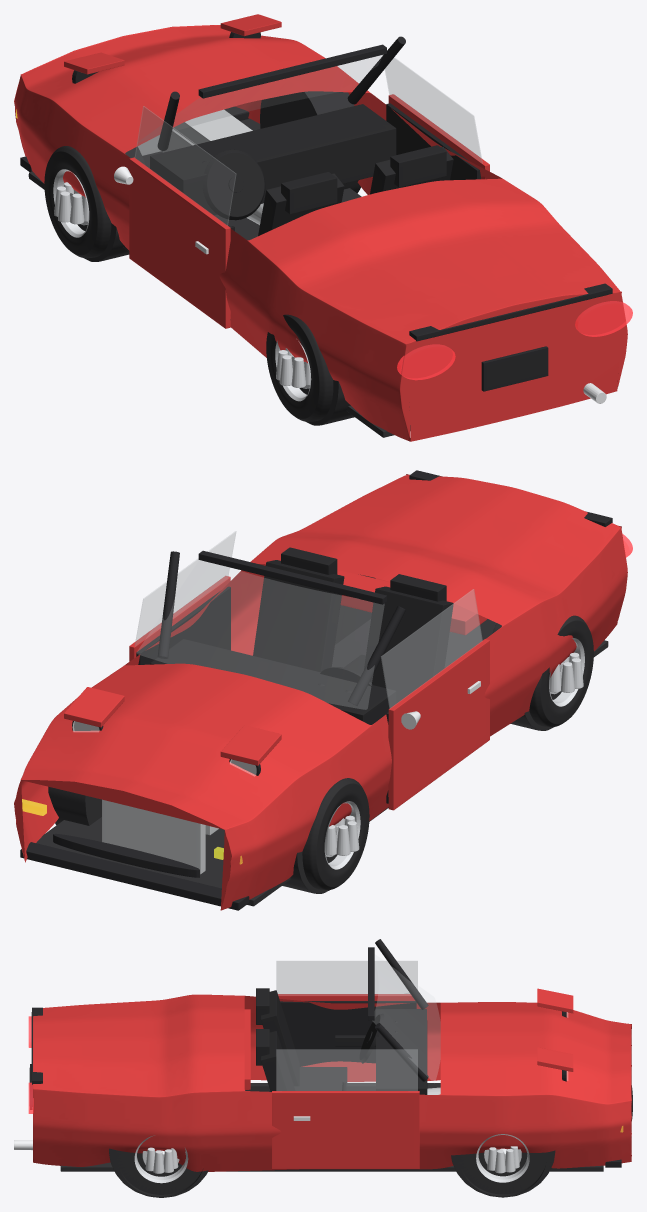
The model's file is vehicle.opt.glb.
3 views of the same model, one above another, from view 1: azimuth 30°, elevation 25°; view 2: azimuth 150°, elevation 25°; view 3: azimuth 270°, elevation 25° (orthographic). The views are drawn at different scales.
Visible parts, largest first — view 1: BODY_Miata_NA_Unibody, INTERIOR_Miata_NA_Cockpit, DOOR_FL_Miata_NA, LIGHTING_Miata_NA_OpticsAndPopups, DOOR_FL_Miata_NA_WindowGlass, CHASSIS_Miata_NA_Platform, WHEEL_FL_Daisy, GLASS_Miata_NA_Greenhouse, WHEEL_RL_Daisy, DOOR_FR_Miata_NA_WindowGlass, BODY_Miata_NA_WindshieldHeaderFrame, INTERIOR_Miata_NA_SteeringWheel (+4 smaller); view 2: BODY_Miata_NA_Unibody, GLASS_Miata_NA_Greenhouse, INTERIOR_Miata_NA_Cockpit, DOOR_FL_Miata_NA, CHASSIS_Miata_NA_Platform, LIGHTING_Miata_NA_OpticsAndPopups, DOOR_FL_Miata_NA_WindowGlass, WHEEL_FL_Daisy, POWERTRAIN_Miata_NA_B6ZE, BODY_Miata_NA_WindshieldHeaderFrame, AERO_Miata_NA_RPackageSpoilers, WHEEL_RL_Daisy (+3 smaller); view 3: BODY_Miata_NA_Unibody, DOOR_FR_Miata_NA, INTERIOR_Miata_NA_Cockpit, CHASSIS_Miata_NA_Platform, DOOR_FR_Miata_NA_WindowGlass, DOOR_FL_Miata_NA_InnerCard, GLASS_Miata_NA_Greenhouse, DOOR_FL_Miata_NA_WindowGlass, LIGHTING_Miata_NA_OpticsAndPopups, BODY_Miata_NA_WindshieldHeaderFrame, WHEEL_FR_Daisy, WHEEL_RR_Daisy (+3 smaller).
Part boxes in pixels (x1=…): BODY_Miata_NA_Unibody: x1=14, y1=25, x2=627, y2=441; INTERIOR_Miata_NA_Cockpit: x1=150, y1=104, x2=453, y2=236; DOOR_FL_Miata_NA: x1=129, y1=157, x2=230, y2=328; LIGHTING_Miata_NA_OpticsAndPopups: x1=16, y1=14, x2=632, y2=403; DOOR_FL_Miata_NA_WindowGlass: x1=135, y1=106, x2=236, y2=225; CHASSIS_Miata_NA_Platform: x1=28, y1=91, x2=410, y2=437; WHEEL_FL_Daisy: x1=44, y1=146, x2=111, y2=258; GLASS_Miata_NA_Greenhouse: x1=173, y1=55, x2=382, y2=129; WHEEL_RL_Daisy: x1=266, y1=314, x2=333, y2=421; DOOR_FR_Miata_NA_WindowGlass: x1=382, y1=55, x2=482, y2=163; BODY_Miata_NA_WindshieldHeaderFrame: x1=157, y1=36, x2=405, y2=150; INTERIOR_Miata_NA_SteeringWheel: x1=202, y1=149, x2=265, y2=220; BODY_Miata_NA_Unibody: x1=14, y1=474, x2=627, y2=910; GLASS_Miata_NA_Greenhouse: x1=137, y1=560, x2=383, y2=709; INTERIOR_Miata_NA_Cockpit: x1=150, y1=547, x2=453, y2=724; DOOR_FL_Miata_NA: x1=388, y1=639, x2=489, y2=810; CHASSIS_Miata_NA_Platform: x1=36, y1=574, x2=608, y2=906; LIGHTING_Miata_NA_OpticsAndPopups: x1=22, y1=534, x2=632, y2=877; DOOR_FL_Miata_NA_WindowGlass: x1=381, y1=589, x2=482, y2=708; WHEEL_FL_Daisy: x1=302, y1=778, x2=369, y2=889; POWERTRAIN_Miata_NA_B6ZE: x1=102, y1=799, x2=218, y2=874; BODY_Miata_NA_WindshieldHeaderFrame: x1=157, y1=550, x2=405, y2=705; AERO_Miata_NA_RPackageSpoilers: x1=20, y1=470, x2=612, y2=910; WHEEL_RL_Daisy: x1=529, y1=615, x2=593, y2=727; BODY_Miata_NA_Unibody: x1=33, y1=994, x2=631, y2=1171; DOOR_FR_Miata_NA: x1=272, y1=1091, x2=419, y2=1169; INTERIOR_Miata_NA_Cockpit: x1=245, y1=988, x2=427, y2=1094; CHASSIS_Miata_NA_Platform: x1=60, y1=1083, x2=603, y2=1197; DOOR_FR_Miata_NA_WindowGlass: x1=276, y1=1049, x2=417, y2=1090; DOOR_FL_Miata_NA_InnerCard: x1=280, y1=1001, x2=416, y2=1066; GLASS_Miata_NA_Greenhouse: x1=373, y1=955, x2=439, y2=1082; DOOR_FL_Miata_NA_WindowGlass: x1=276, y1=961, x2=417, y2=995; LIGHTING_Miata_NA_OpticsAndPopups: x1=14, y1=988, x2=632, y2=1150; BODY_Miata_NA_WindshieldHeaderFrame: x1=368, y1=939, x2=428, y2=1081; WHEEL_FR_Daisy: x1=461, y1=1134, x2=545, y2=1196; WHEEL_RR_Daisy: x1=118, y1=1135, x2=202, y2=1196.
Size of what is drawn, in the model's own units: 1.77 by 1.24 by 4.1.
